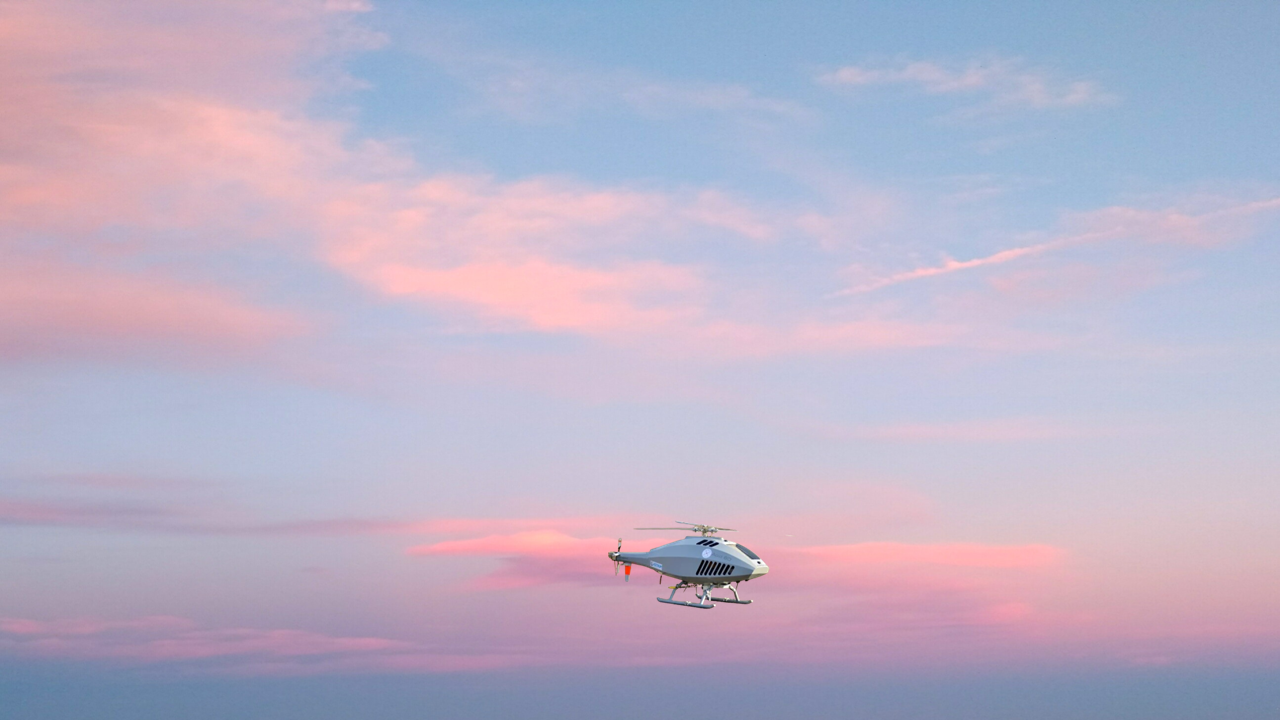military drone: (607, 520, 769, 608)
